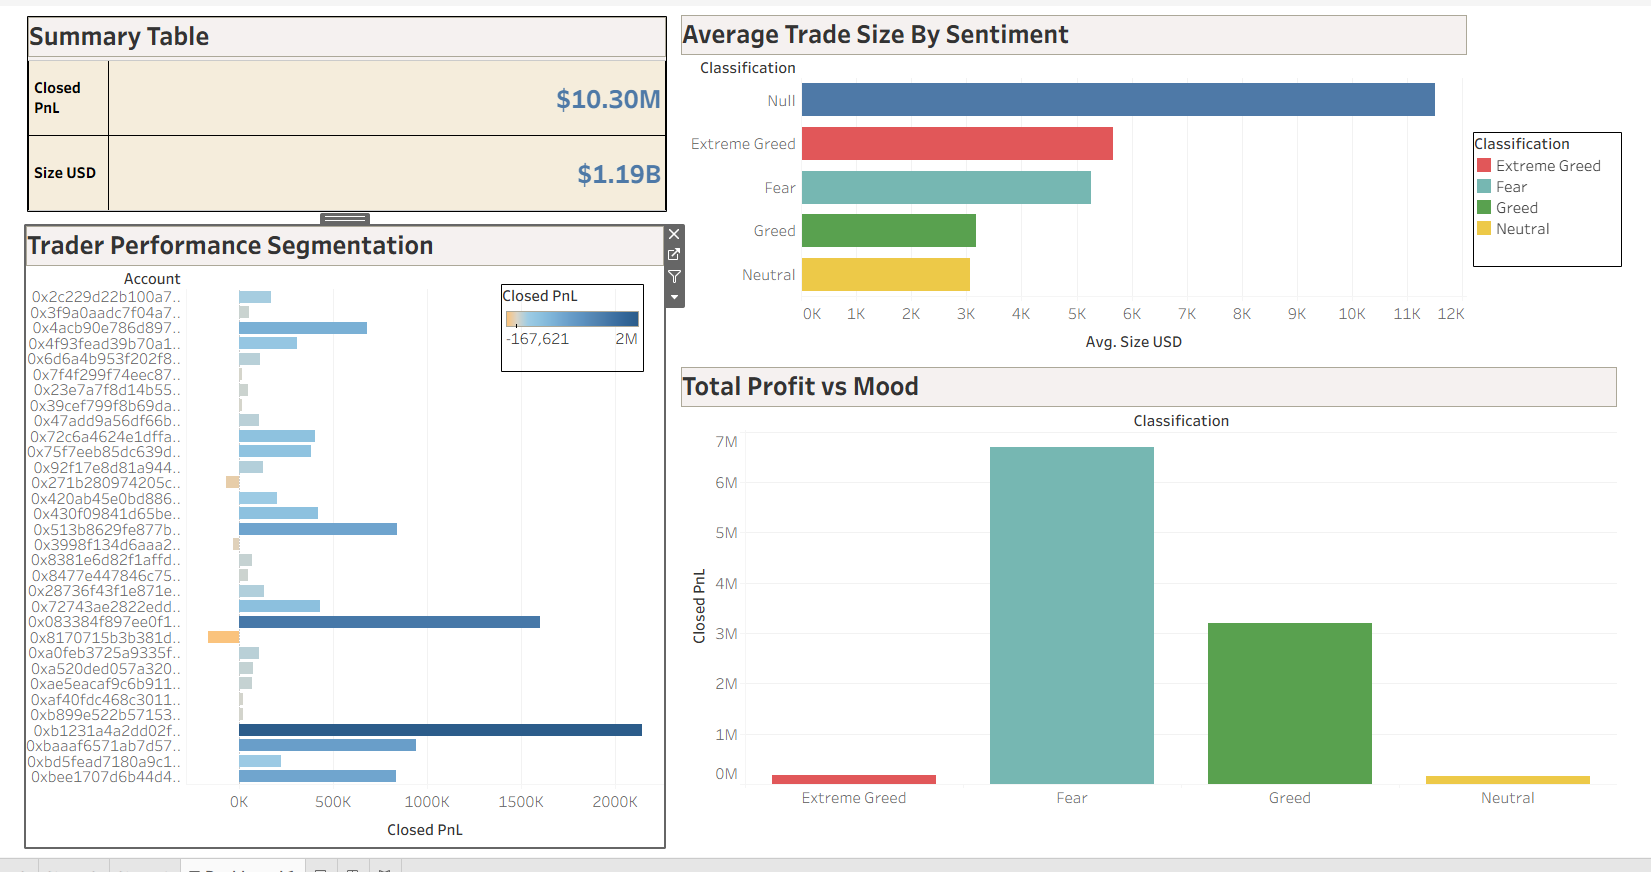

What the dashboard file says about the page in this screenshot:
{"tool":"tableau","page":{"name":"Dashboard 1","canvas":[1000,1000],"units":"permille","ordinal":0},"visuals":[{"type":"worksheet","title":"Sheet 2","mark":"Automatic","rows":["classification"],"cols":["Size USD"],"box":[414,10.6,474.4,404.2]},{"type":"worksheet","title":"Sheet 4","mark":"Automatic","box":[19.3,11.8,386.2,230.3]},{"type":"legend","title":"Sheet 1","param":"[federated.0uf3gsv1o5aucy1dbuuyg09g7j5l].[none:classification:nk]","box":[892,148.1,89.9,158.6]},{"type":"worksheet","title":"Sheet 3","mark":"Automatic","rows":["Account"],"cols":["Closed PnL"],"box":[18.7,258.5,385,729.7]},{"type":"legend","title":"Sheet 3","param":"[federated.0uf3gsv1o5aucy1dbuuyg09g7j5l].[sum:Closed PnL:qk]","box":[305.4,326.7,86.3,103.4]},{"type":"worksheet","title":"Sheet 1","mark":"Automatic","rows":["Closed PnL"],"cols":["classification"],"box":[414,424.2,564.9,537]}]}

Visuals, with their boxes on the dashboard's canvas, which has no fixed pixel size, in thousandths of its width and height (x1, y1, x2, y2). These are canvas units, not pixel positions in the 1651x872 screenshot, which may show the page scaled, cropped or inside an application window:
"Sheet 2" worksheet: bbox(414, 11, 888, 415)
"Sheet 4" worksheet: bbox(19, 12, 406, 242)
"Sheet 1" legend: bbox(892, 148, 982, 307)
"Sheet 3" worksheet: bbox(19, 258, 404, 988)
"Sheet 3" legend: bbox(305, 327, 392, 430)
"Sheet 1" worksheet: bbox(414, 424, 979, 961)
